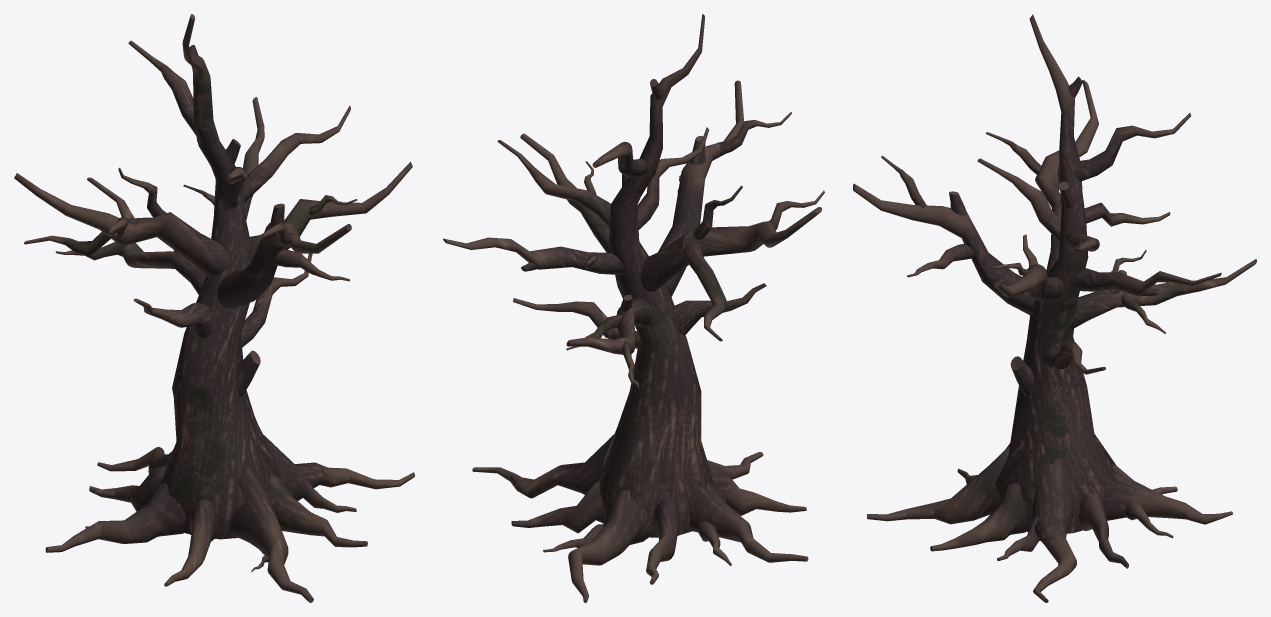
Rendered from spooky_tree_3.glb.
3 views of the same model, side by side, from view 1: azimuth 30°, elevation 25°; view 2: azimuth 150°, elevation 25°; view 3: azimuth 270°, elevation 25° (orthographic). The views are drawn at different scales.
Visible parts, largest first — view 1: group31_pasted__group28_pasted__pasted__group19_pasted__past; view 2: group31_pasted__group28_pasted__pasted__group19_pasted__past; view 3: group31_pasted__group28_pasted__pasted__group19_pasted__past.
Boxes of the visible parts, x1,y1,x2,y2 form: group31_pasted__group28_pasted__pasted__group19_pasted__past: [14, 14, 414, 602]; group31_pasted__group28_pasted__pasted__group19_pasted__past: [443, 14, 824, 602]; group31_pasted__group28_pasted__pasted__group19_pasted__past: [853, 14, 1256, 602].
Size of the model in its own units: 0.4294 by 0.5781 by 0.4267.
1 material, 1 textured.
